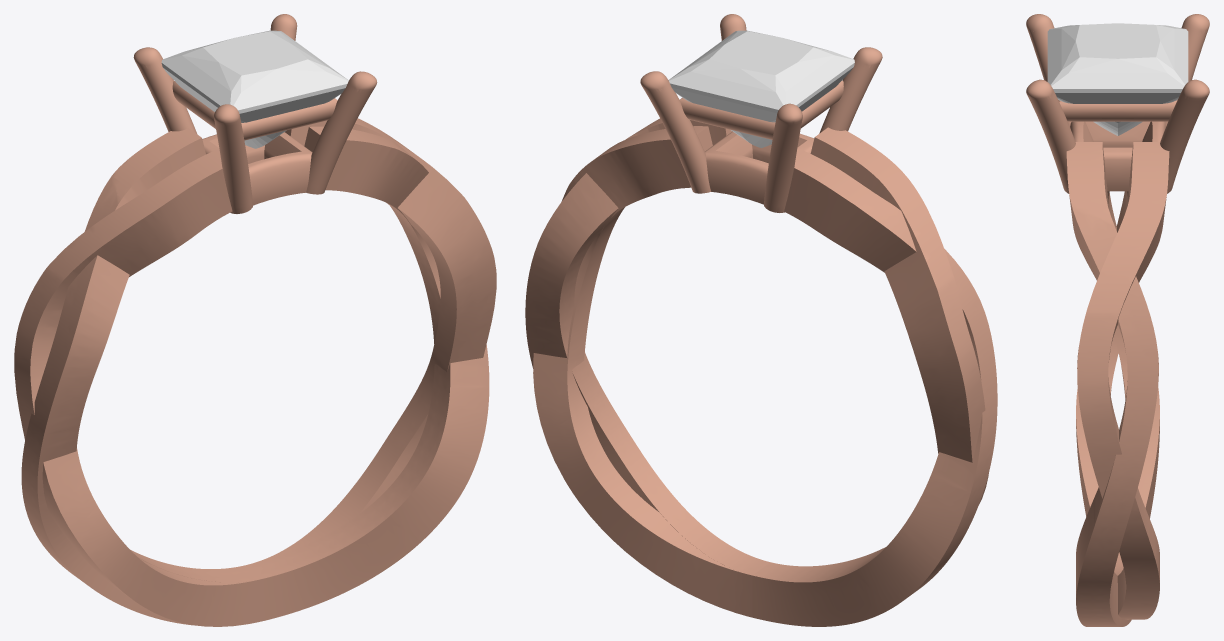
File: diamond-princess-rosegold-4prong-twist-nosidestones.glb
The picture shows the model from 3 angles, left to right: view 1: azimuth 30°, elevation 25°; view 2: azimuth 150°, elevation 25°; view 3: azimuth 270°, elevation 25°; orthographic projection.
Visible parts, largest first — view 1: metal, stone; view 2: metal, stone; view 3: metal, stone.
Part boxes in pixels (left/top/right/bottom): metal: left=14, top=14, right=496, bottom=626; stone: left=161, top=30, right=348, bottom=148; metal: left=525, top=14, right=997, bottom=626; stone: left=668, top=30, right=854, bottom=147; metal: left=1026, top=14, right=1209, bottom=626; stone: left=1047, top=23, right=1188, bottom=135.
Size of the model in its own units: 19.97 by 23.76 by 7.08.
